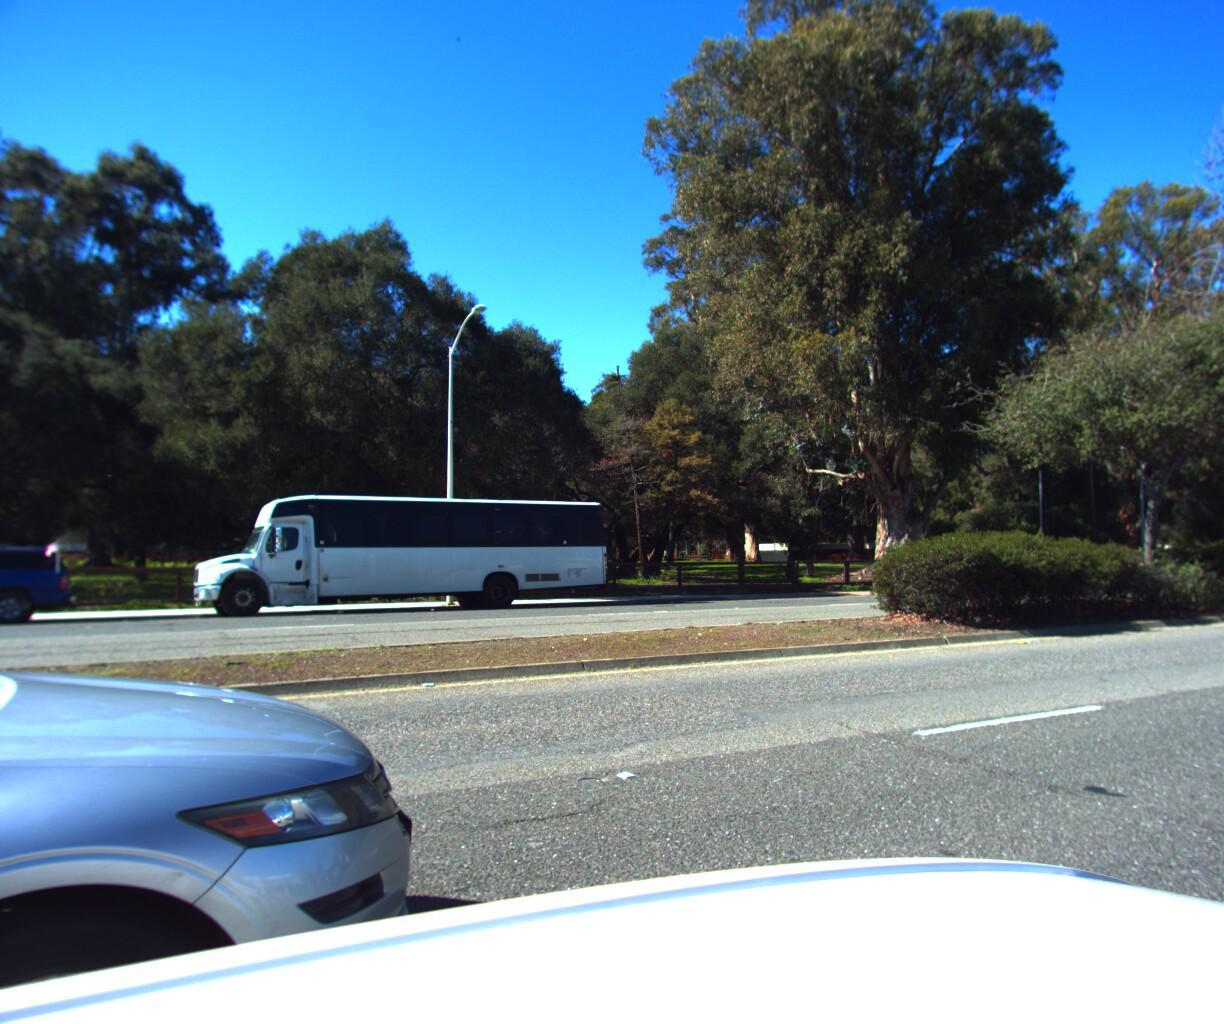bus: (177, 481, 616, 623)
car: (0, 110, 521, 1024), (0, 540, 82, 641)
